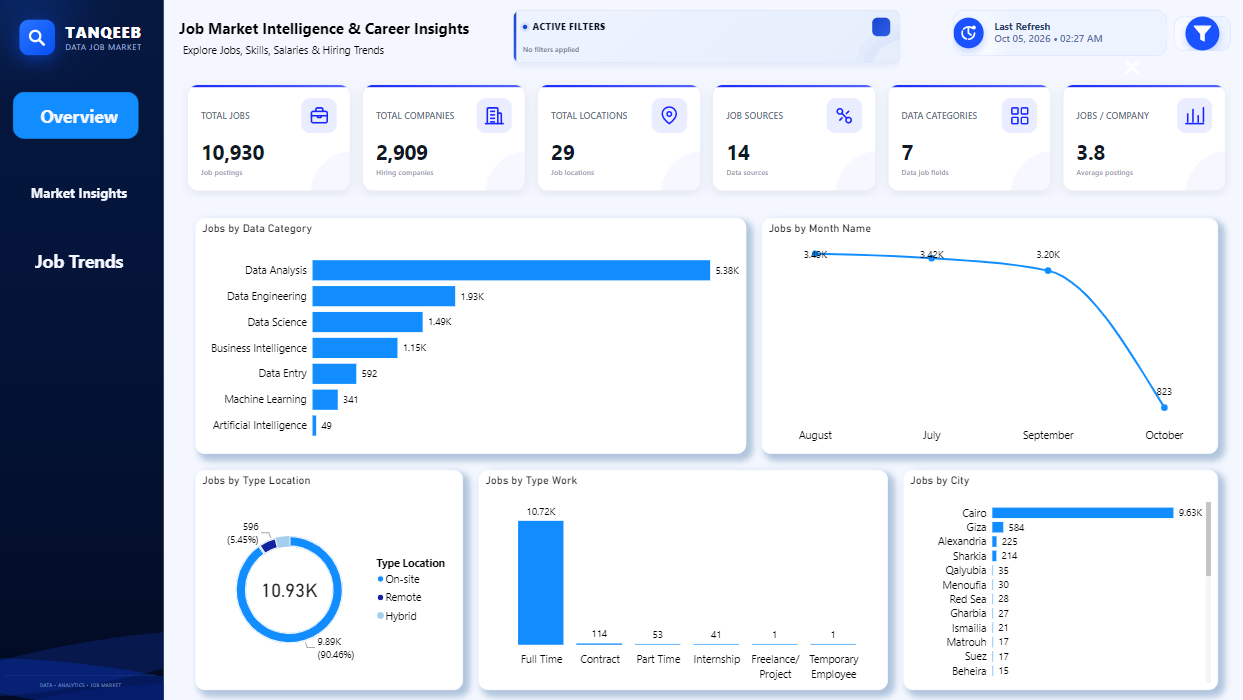

The page's visual inventory and layout, read from the dashboard file:
{"tool":"powerbi","page":{"name":"Overview Page","canvas":[1920,1080],"ordinal":1},"visuals":[{"type":"actionButton","box":[276,24,500,48],"z":0,"group":"g1"},{"type":"htmlContent443BE3AD55E043BF878BED274D3A6855","fields":{"content":["Dax_meausres.KPI_Cards_HTML"]},"box":[288,120,1608,192],"z":0},{"type":"shape","box":[35.5,144,192,72],"z":0,"group":"g2"},{"type":"actionButton","box":[280.8,65,504,33],"z":1000,"group":"g1"},{"type":"actionButton","box":[47.5,144,168,72],"z":1000,"group":"g2"},{"type":"barChart","fields":{"Category":["Dim_DataCategory.Data_Category"],"Y":["Dax_meausres.Total Jobs"]},"box":[312,336,840,360],"z":1000},{"type":"lineChart","fields":{"Category":["Dim_Date.Month_Name"],"Y":["Dax_meausres.Total Jobs"]},"box":[1176,336,696,360],"z":2000},{"type":"columnChart","fields":{"Category":["Dim_WorkType.Type_Work"],"Y":["Dax_meausres.Total Jobs"]},"box":[744,720,624,336],"z":3000},{"type":"image","box":[1680,72,120,72],"z":4000},{"type":"htmlContent443BE3AD55E043BF878BED274D3A6855","fields":{"content":["Dax_meausres.Filter_Header_HTML"]},"box":[1800,24,96,72],"z":5000},{"type":"clusteredBarChart","fields":{"Category":["Dim_Location.City"],"Y":["Dax_meausres.Total Jobs"]},"box":[1392,720,480,336],"z":6000},{"type":"htmlContent443BE3AD55E043BF878BED274D3A6855","fields":{"content":["Dax_meausres.Last Refresh HTML"]},"box":[1464,14,336,83],"z":7000},{"type":"donutChart","fields":{"Category":["Dim_Workplace.Type_Location"],"Y":["Dax_meausres.Total Jobs"]},"box":[312,720,408,336],"z":8000},{"type":"htmlContent443BE3AD55E043BF878BED274D3A6865","fields":{"content":["Dax_meausres.Sidebar_HTML"]},"box":[6,0,264,1080],"z":9000},{"type":"shape","box":[1800,24,96,72],"z":10000},{"type":"group","id":"g1","title":"Group 2","box":[276,24,508.8,74],"z":11000},{"type":"group","id":"g2","title":"Group 3","box":[35.5,144,192,72],"z":12000},{"type":"actionButton","box":[47.8,262,168,72],"z":14000},{"type":"actionButton","box":[48,366,168,72],"z":15000},{"type":"htmlContent443BE3AD55E043BF878BED274D3A6855","fields":{"content":["Dax_meausres.Active_Filters_HTML"]},"box":[792,14,600,102],"z":16000}]}

Visuals, with their boxes in screenshot pixels (x1, y1, x2, y2), scaled from the page's 1920x1080 canvas onto the 1243x700 screenshot:
actionButton: [x1=179, y1=16, x2=502, y2=47]
htmlContent443BE3AD55E043BF878BED274D3A6855 - Dax_meausres.KPI_Cards_HTML: [x1=186, y1=78, x2=1227, y2=202]
shape: [x1=23, y1=93, x2=147, y2=140]
actionButton: [x1=182, y1=42, x2=508, y2=64]
actionButton: [x1=31, y1=93, x2=140, y2=140]
barChart - Dim_DataCategory.Data_Category x Dax_meausres.Total Jobs: [x1=202, y1=218, x2=746, y2=451]
lineChart - Dim_Date.Month_Name x Dax_meausres.Total Jobs: [x1=761, y1=218, x2=1212, y2=451]
columnChart - Dim_WorkType.Type_Work x Dax_meausres.Total Jobs: [x1=482, y1=467, x2=886, y2=684]
image: [x1=1088, y1=47, x2=1165, y2=93]
htmlContent443BE3AD55E043BF878BED274D3A6855 - Dax_meausres.Filter_Header_HTML: [x1=1165, y1=16, x2=1227, y2=62]
clusteredBarChart - Dim_Location.City x Dax_meausres.Total Jobs: [x1=901, y1=467, x2=1212, y2=684]
htmlContent443BE3AD55E043BF878BED274D3A6855 - Dax_meausres.Last Refresh HTML: [x1=948, y1=9, x2=1165, y2=63]
donutChart - Dim_Workplace.Type_Location x Dax_meausres.Total Jobs: [x1=202, y1=467, x2=466, y2=684]
htmlContent443BE3AD55E043BF878BED274D3A6865 - Dax_meausres.Sidebar_HTML: [x1=4, y1=0, x2=175, y2=699]
shape: [x1=1165, y1=16, x2=1227, y2=62]
"Group 2" group: [x1=179, y1=16, x2=508, y2=64]
"Group 3" group: [x1=23, y1=93, x2=147, y2=140]
actionButton: [x1=31, y1=170, x2=140, y2=216]
actionButton: [x1=31, y1=237, x2=140, y2=284]
htmlContent443BE3AD55E043BF878BED274D3A6855 - Dax_meausres.Active_Filters_HTML: [x1=513, y1=9, x2=901, y2=75]
